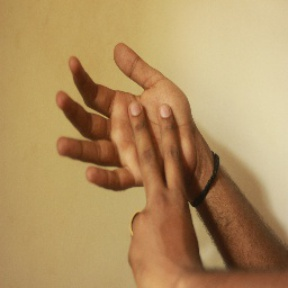N: (35, 35, 219, 263)
